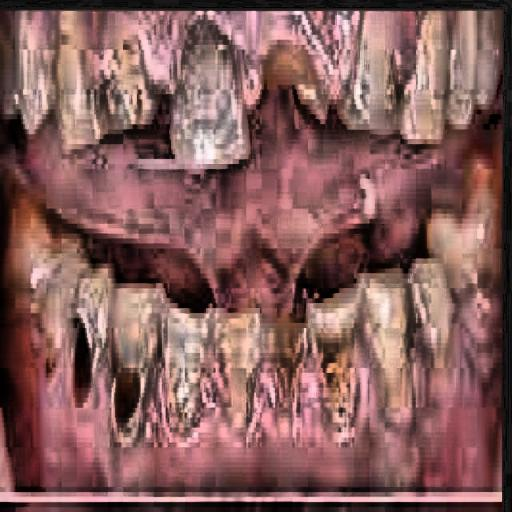Caries: (8, 290, 187, 442)
